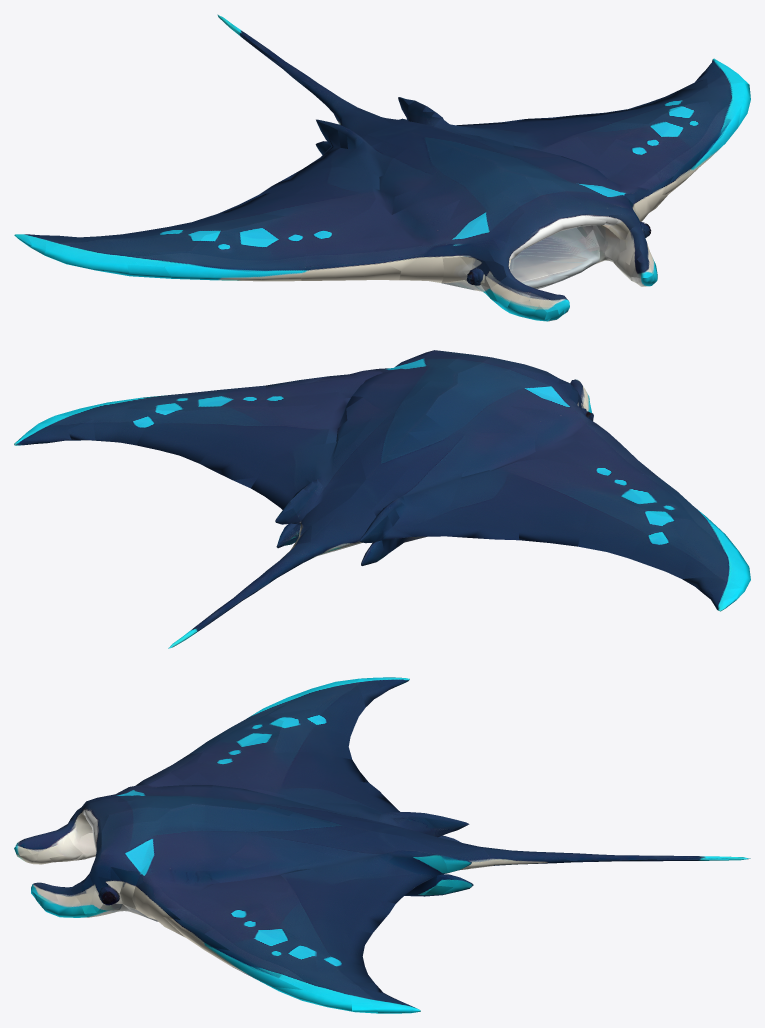
3 views of the same model, one above another, from view 1: azimuth 30°, elevation 25°; view 2: azimuth 150°, elevation 25°; view 3: azimuth 270°, elevation 25° (orthographic). The views are drawn at different scales.
Bounding box in the file's own units: 1 × 0.1475 × 0.9375.
Materials: 1 (1 with a texture image).
